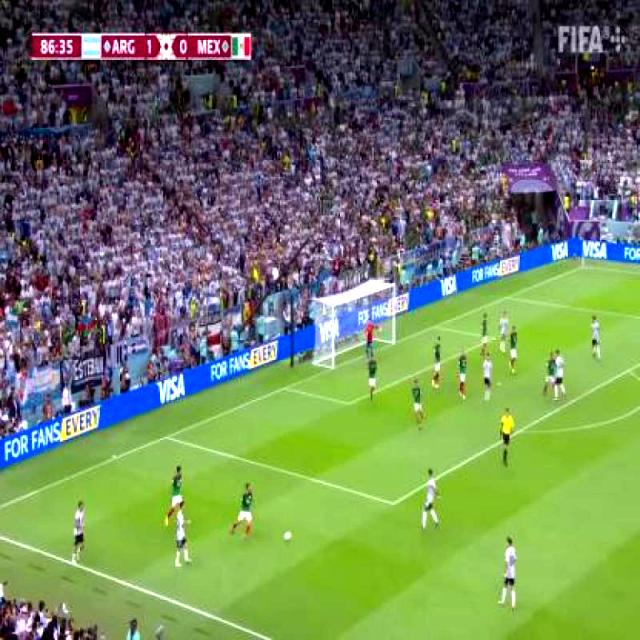bigarea_bottom_inner: (390, 497, 400, 511)
bigarea_bottom_outter: (163, 432, 174, 443)
bigarea_top_outter: (505, 292, 510, 302)
bottom_arc_area_intersection: (517, 426, 528, 437)
corner: (580, 264, 592, 270)
smallarea_bottom_inner: (346, 398, 354, 412)
smallarea_bottom_outter: (283, 383, 291, 394)
smallarea_top_inner: (491, 332, 499, 344)
smallarea_top_outter: (432, 323, 438, 332)
top_arc_area_intersection: (626, 365, 632, 377)
